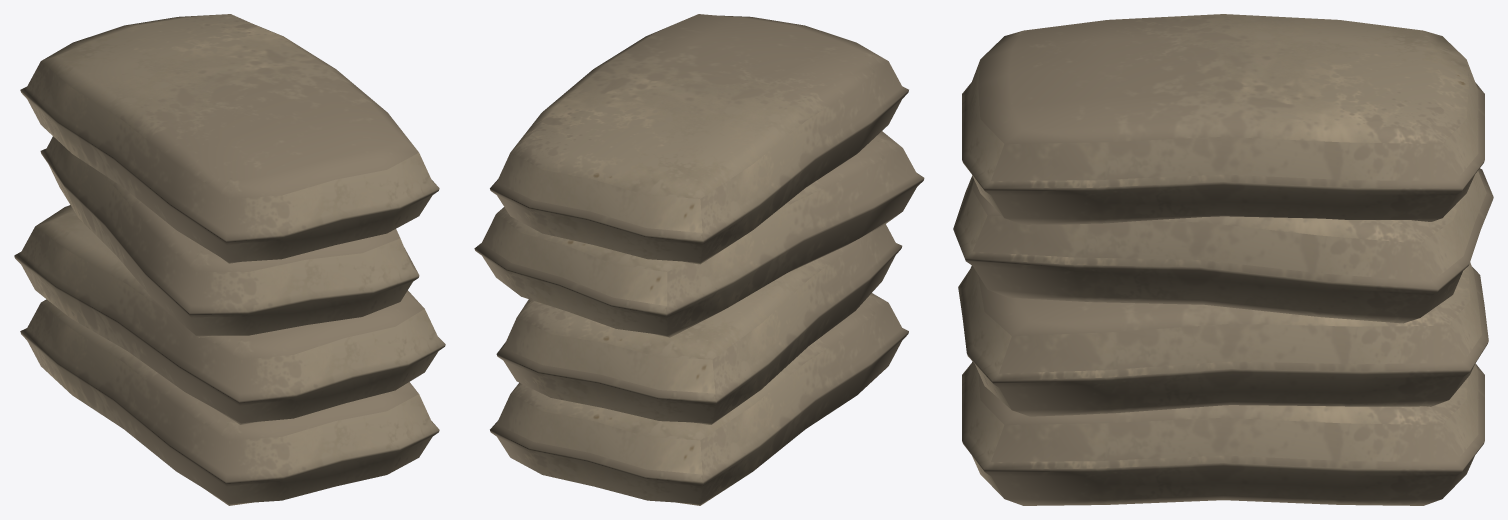
File: sand_bag.glb
3 views of the same model, side by side, from view 1: azimuth 30°, elevation 25°; view 2: azimuth 150°, elevation 25°; view 3: azimuth 270°, elevation 25° (orthographic). The views are drawn at different scales.
Visible parts, largest first — view 1: SandBag4; view 2: SandBag4; view 3: SandBag4.
Boxes of the visible parts, x1=… form: SandBag4: x1=14, y1=14, x2=445, y2=505; SandBag4: x1=474, y1=14, x2=924, y2=505; SandBag4: x1=953, y1=14, x2=1493, y2=505.
Size of the model in its own units: 3.46 by 4.24 by 5.25.
1 material, 1 textured.
